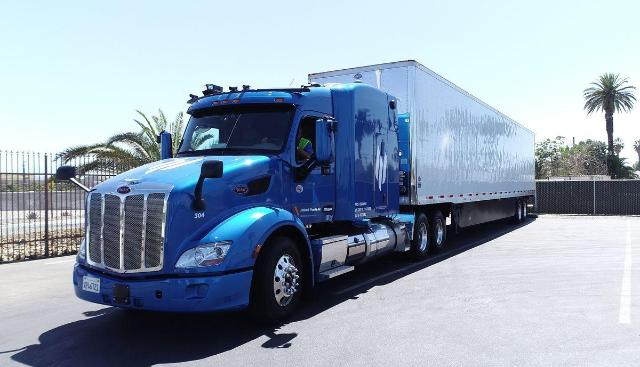truck: (35, 40, 564, 322)
